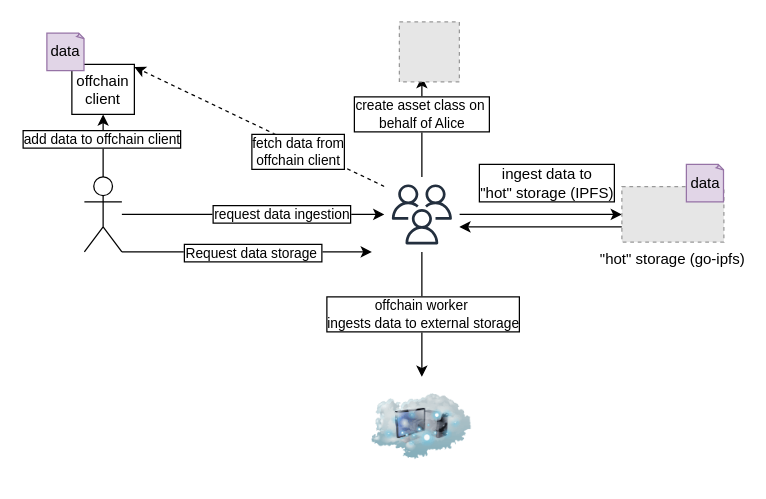
The diagram is 766 pixels wide and 499 high, and some of its shapes have lost their labels. Grey dashed boxes stand in for pictures. The shapes that lost their labels are listed below. From the top down, each one's centre as x and y in pixels, then its label:
At pixel 102 214: "Alice".
At pixel 421 214: "proxy/gateway nodes".
